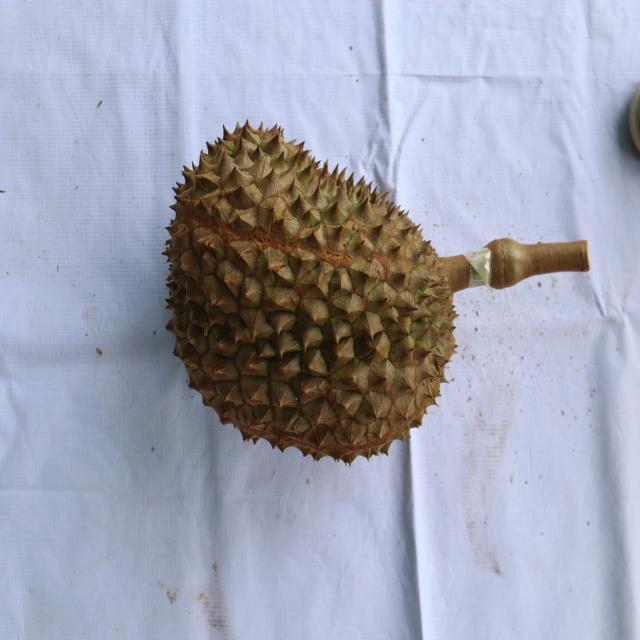mature: (160, 115, 458, 469)
